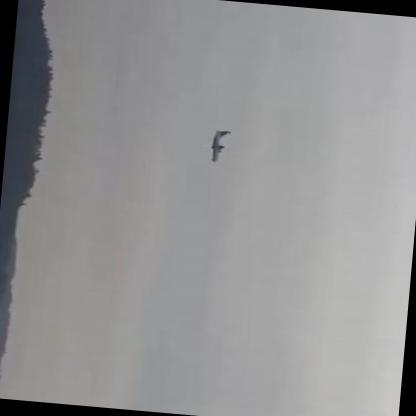plane: (206, 129, 231, 165)
